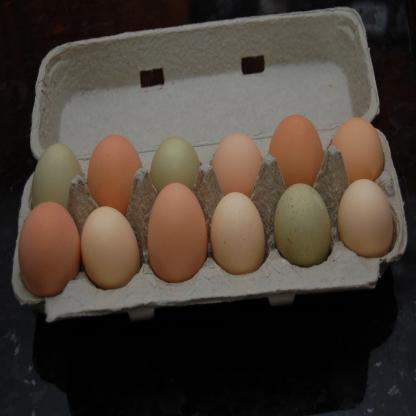Egg: (18, 115, 393, 298)
